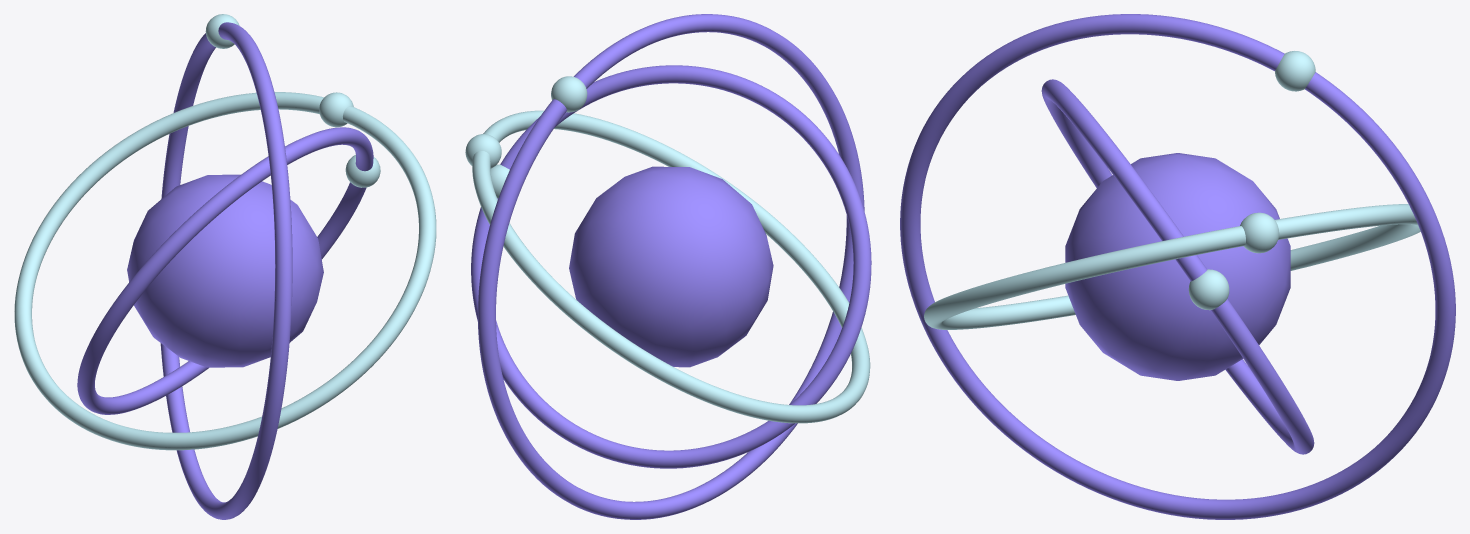
File: hero.glb
3 views of the same model, side by side, from view 1: azimuth 30°, elevation 25°; view 2: azimuth 150°, elevation 25°; view 3: azimuth 270°, elevation 25° (orthographic). The views are drawn at different scales.
Parts seen in each view (by area): view 1: Faceted iridescent core, Orbital ring 2, Orbital ring 3, Orbital ring 1, Orbital satellite 2, Orbital satellite 1, Orbital satellite 3; view 2: Faceted iridescent core, Orbital ring 3, Orbital ring 1, Orbital ring 2, Orbital satellite 3, Orbital satellite 2; view 3: Orbital ring 3, Faceted iridescent core, Orbital ring 2, Orbital ring 1, Orbital satellite 1, Orbital satellite 3, Orbital satellite 2.
Boxes of the visible parts, bbox=[...] form: Faceted iridescent core: bbox=[127, 174, 323, 367]; Orbital ring 2: bbox=[14, 92, 436, 450]; Orbital ring 3: bbox=[160, 22, 292, 519]; Orbital ring 1: bbox=[77, 127, 373, 414]; Orbital satellite 2: bbox=[319, 92, 353, 127]; Orbital satellite 1: bbox=[345, 154, 380, 187]; Orbital satellite 3: bbox=[205, 14, 239, 48]; Faceted iridescent core: bbox=[569, 166, 773, 367]; Orbital ring 3: bbox=[478, 14, 864, 519]; Orbital ring 1: bbox=[471, 65, 871, 468]; Orbital ring 2: bbox=[472, 110, 870, 423]; Orbital satellite 3: bbox=[551, 76, 587, 112]; Orbital satellite 2: bbox=[465, 134, 501, 168]; Orbital ring 3: bbox=[900, 14, 1455, 519]; Faceted iridescent core: bbox=[1065, 153, 1290, 380]; Orbital ring 2: bbox=[924, 204, 1420, 329]; Orbital ring 1: bbox=[1041, 79, 1314, 454]; Orbital satellite 1: bbox=[1188, 269, 1229, 310]; Orbital satellite 3: bbox=[1275, 51, 1315, 91]; Orbital satellite 2: bbox=[1240, 212, 1279, 253].
Size of the model in its own units: 2.9 by 3.67 by 3.53.
